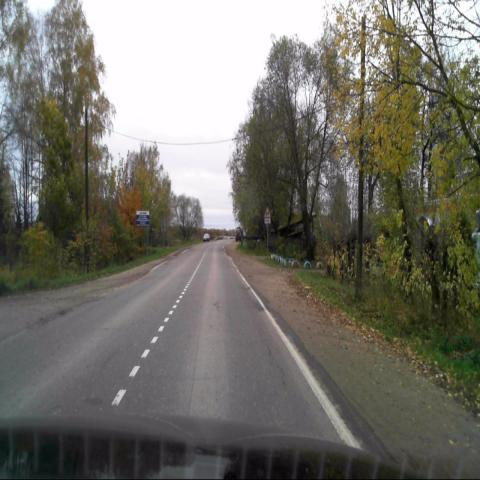1_12: (264, 206, 271, 218)
